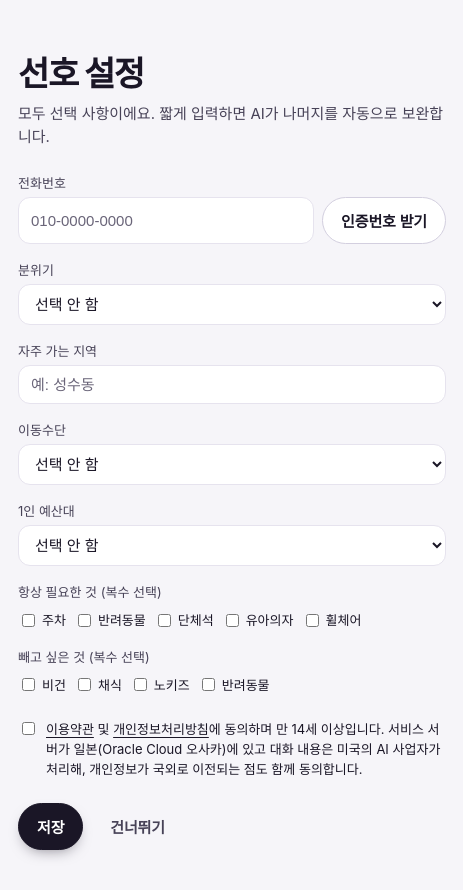
Scenario: 온보딩 › 실패하면 오류를 보여주고 다시 시도할 수 있다
Type "01012345678" into the field with placeholder "010-0000-0000" at x=166, y=220, box [18,197,314,244]
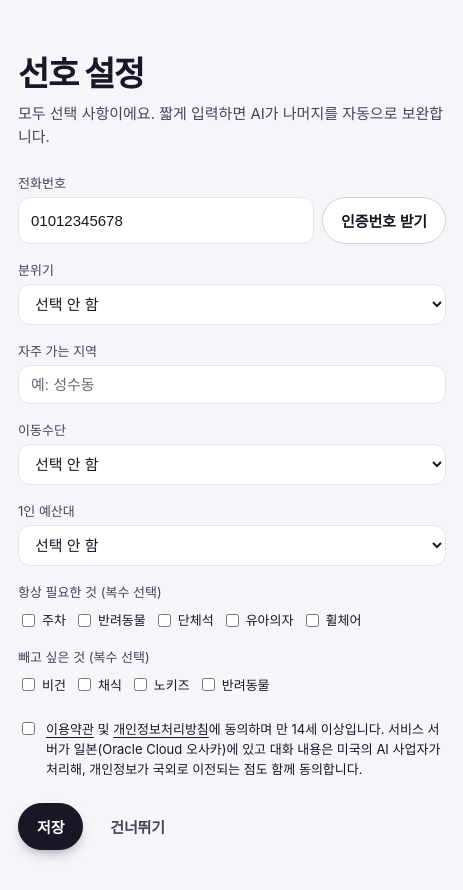
Click the button "인증번호 받기" at x=384, y=220, box [322,197,446,244]
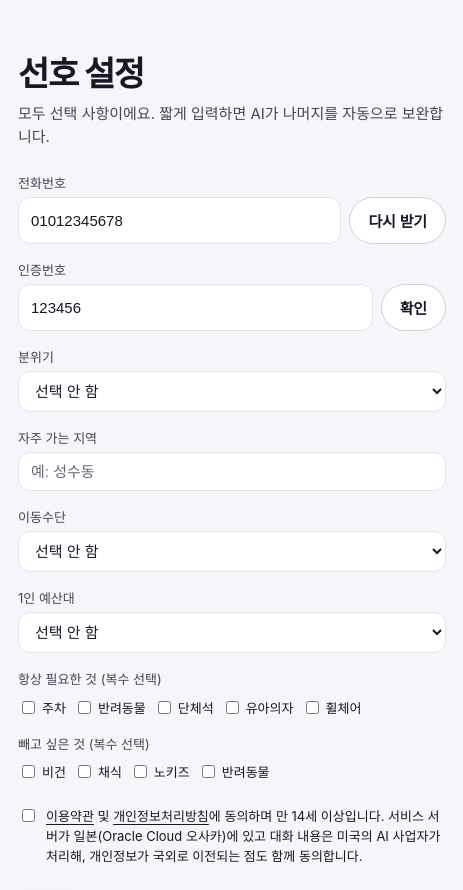
Click the button "확인" at x=413, y=307, box [381,284,446,331]
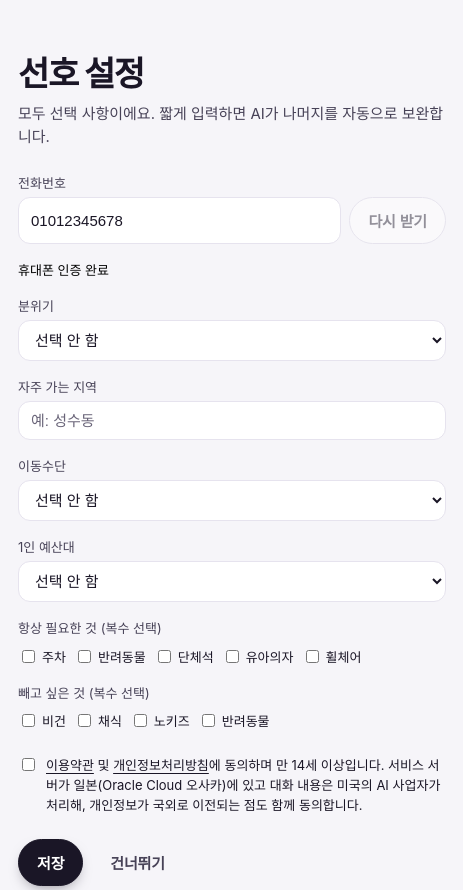
Check: the text "휴대폰 인증 완료" is shown, box [18,262,109,278]
Click the checkbox named "약관 및 개인정보처리방침 동의" at x=28, y=764, box [22,758,35,771]
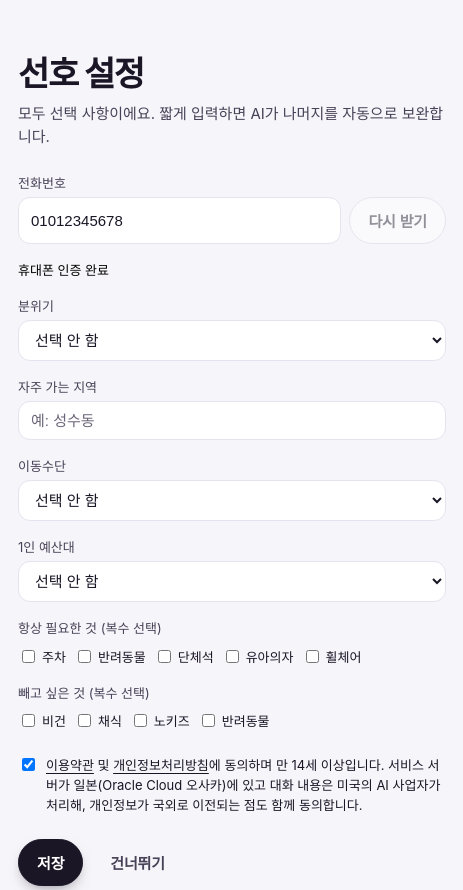
Click the button "저장" at x=51, y=863, box [18,839,83,886]
(page scrolled)
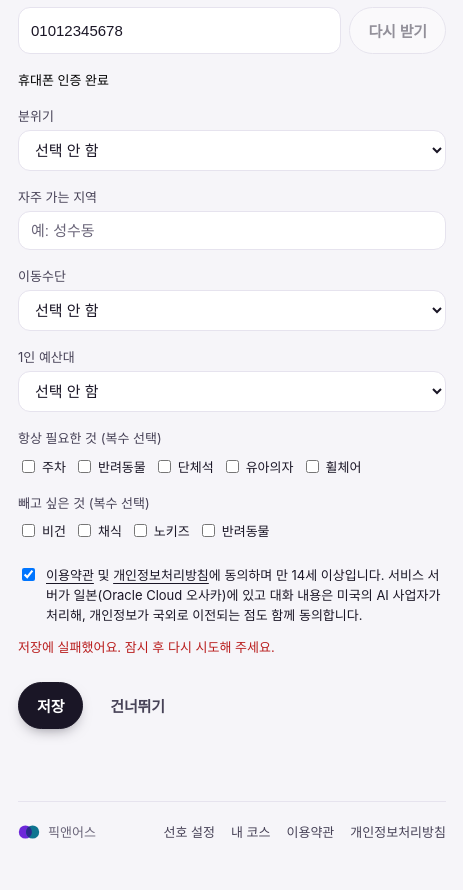
Check: the button "저장" is shown, box [18,682,83,729]
Check: the message "저장에 실패했어요. 잠시 후 다시 시도해 주세요." is shown, box [18,639,275,655]
